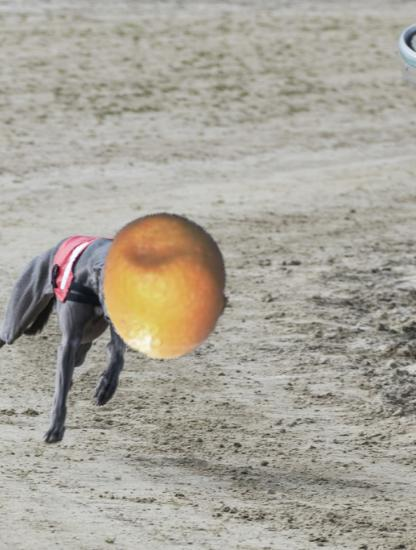Kumquats: (90, 212, 239, 361)
